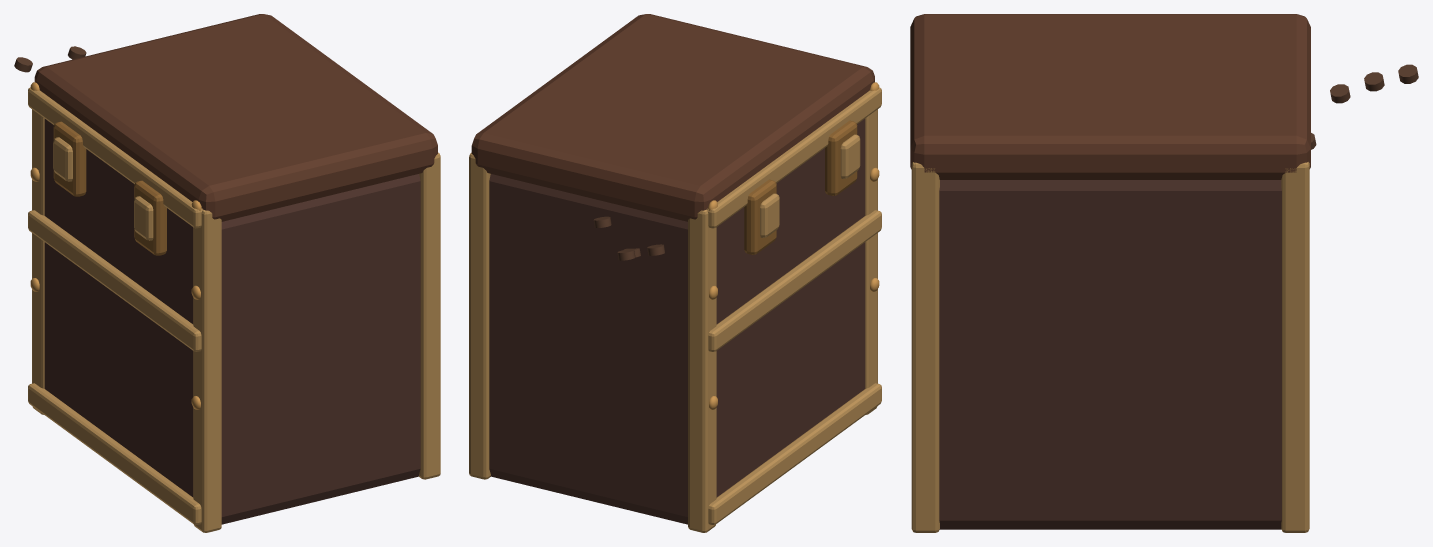
File: SM_Menu_TravelChest.fbx
The picture shows the model from 3 angles, left to right: view 1: azimuth 30°, elevation 25°; view 2: azimuth 150°, elevation 25°; view 3: azimuth 270°, elevation 25°; orthographic projection. The views are drawn at different scales.
Parts seen in each view (by area): view 1: Timber.069_Baked; view 2: Timber.069_Baked; view 3: Timber.069_Baked.
Part boxes in pixels (x1=…): Timber.069_Baked: x1=14, y1=14, x2=440, y2=532; Timber.069_Baked: x1=469, y1=14, x2=881, y2=532; Timber.069_Baked: x1=910, y1=14, x2=1418, y2=532.
Bounding box in the file's own units: 120 × 179 × 154.
